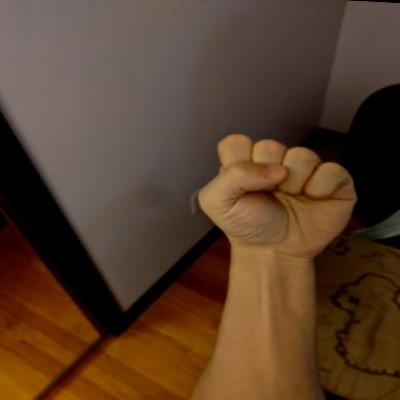hand: (187, 128, 366, 262)
